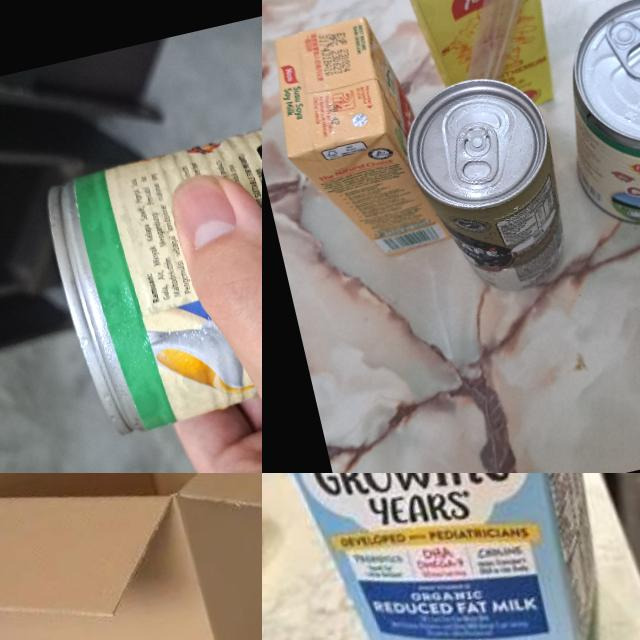aba de lata: (442, 117, 509, 193), (600, 5, 640, 88)
caixinha: (262, 473, 640, 640), (262, 12, 451, 273), (378, 0, 568, 130)
lata: (36, 78, 262, 443), (390, 65, 580, 302), (542, 0, 640, 240)
papelão: (0, 473, 262, 640)
